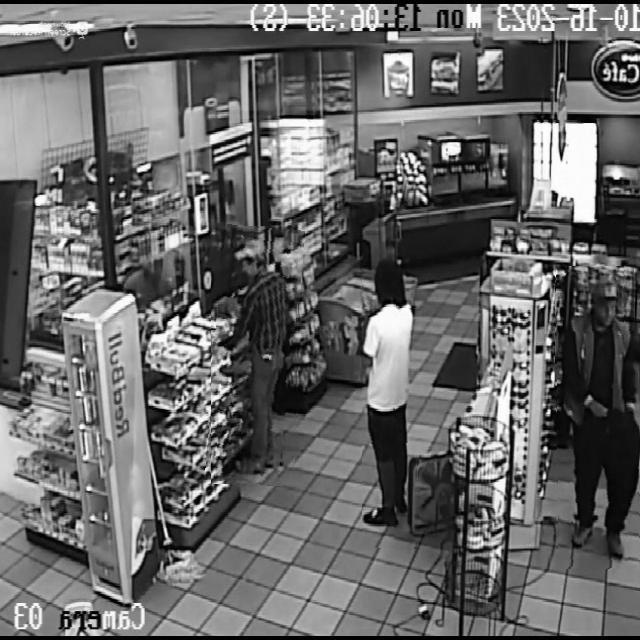Normal: (556, 266, 639, 569), (211, 226, 300, 485), (362, 240, 419, 549)
